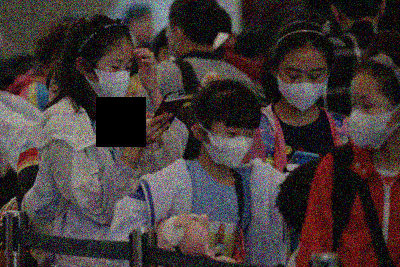with_mask: (203, 117, 258, 167), (278, 60, 329, 111), (347, 89, 389, 149), (90, 53, 135, 104)
